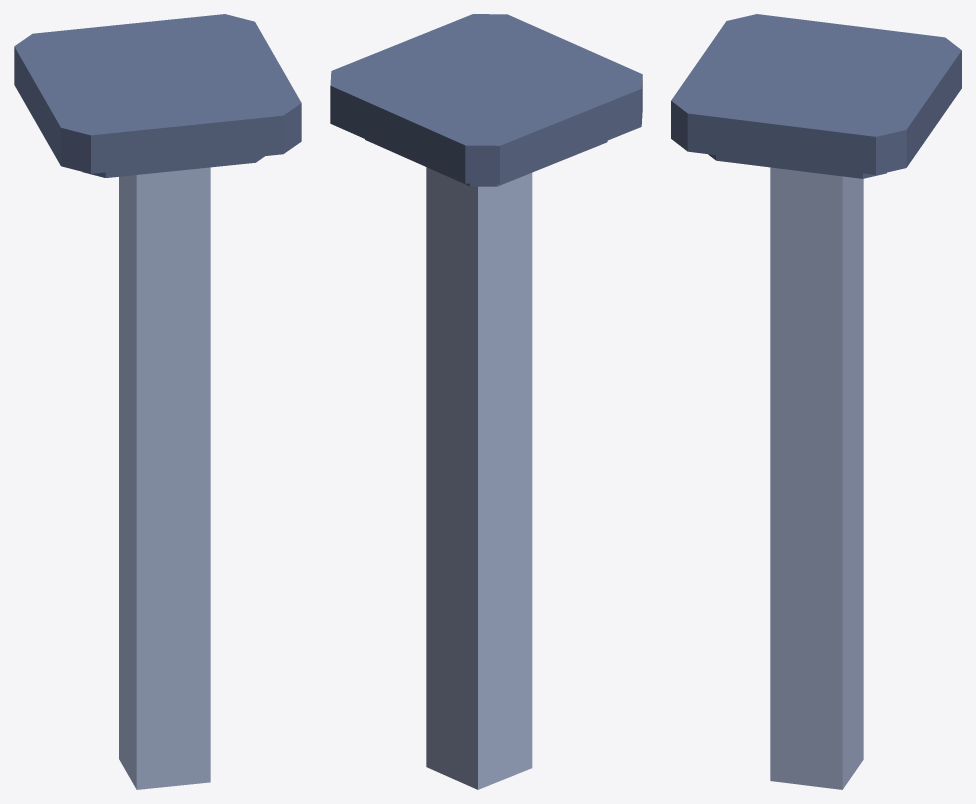
The model's file is tower_stalk.obj.
The picture shows the model from 3 angles, left to right: view 1: azimuth 30°, elevation 25°; view 2: azimuth 150°, elevation 25°; view 3: azimuth 270°, elevation 25°; orthographic projection.
Visible parts, largest first — view 1: stalk; view 2: stalk; view 3: stalk.
Part boxes in pixels (x1=…): stalk: x1=14, y1=14, x2=301, y2=789; stalk: x1=330, y1=14, x2=642, y2=789; stalk: x1=671, y1=14, x2=961, y2=789.
Size of the model in its own units: 15.43 by 40.49 by 15.43.
